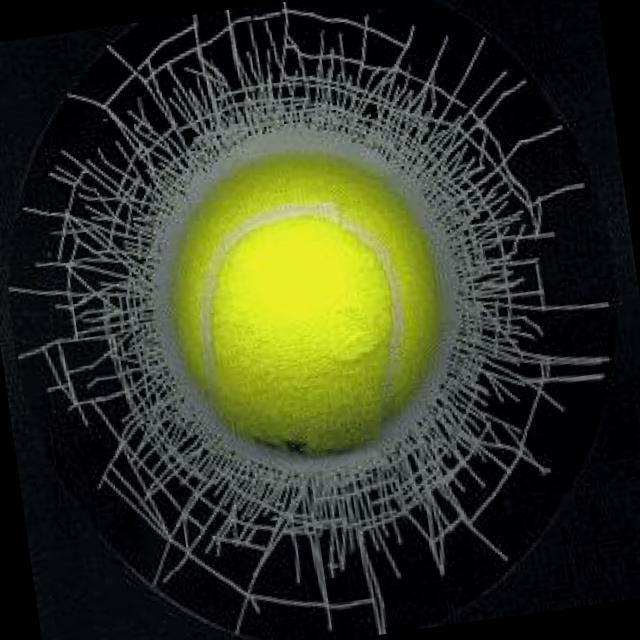Tennis Ball: (173, 153, 443, 457)
